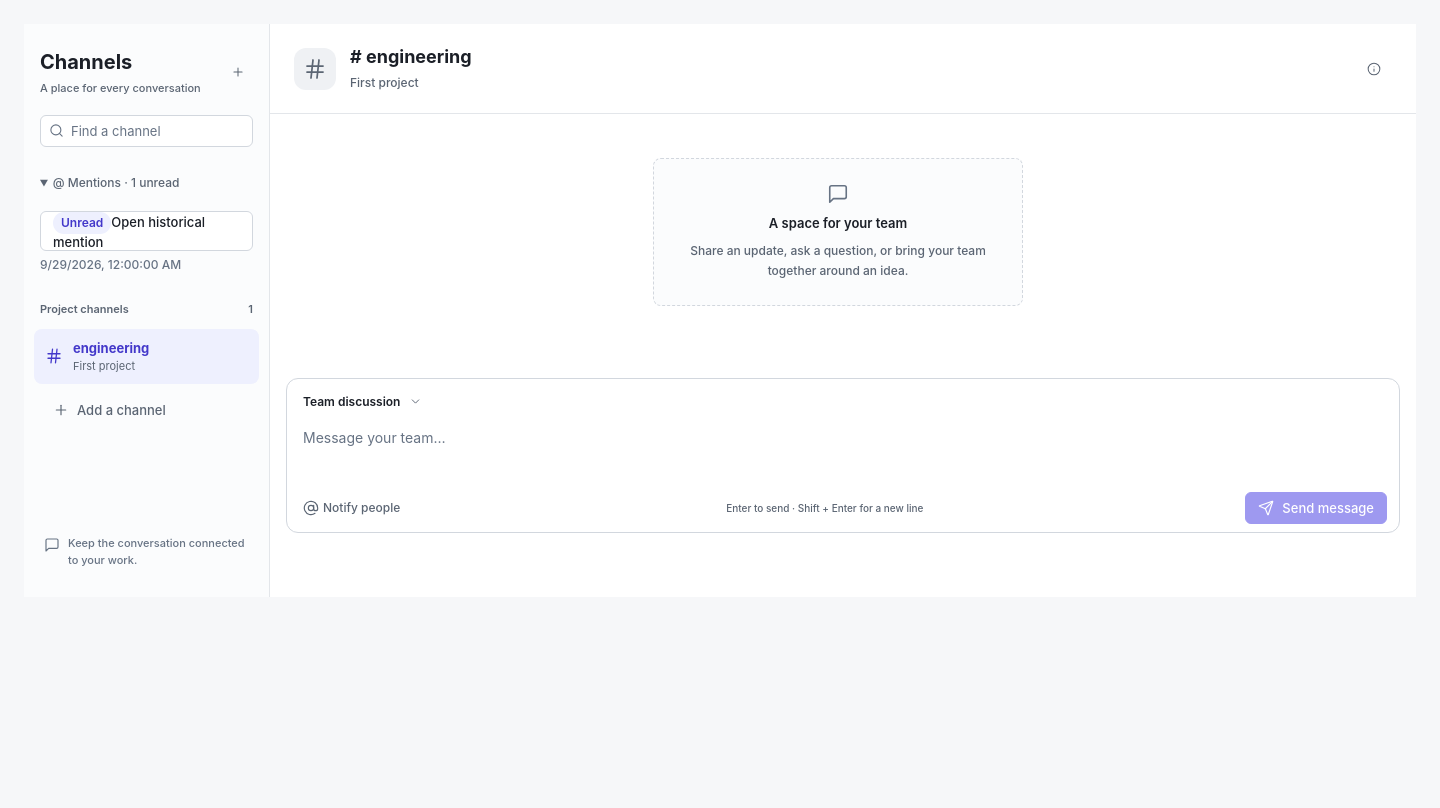
Scenario: notification history › leaves a failed message unread and supports retrying its exact lookup
What coordinates should you click on to do the following:
click the button "Unread Open historical mention"
I would click on:
 (146, 230)
Its box is x1=40 y1=210 x2=253 y2=250.
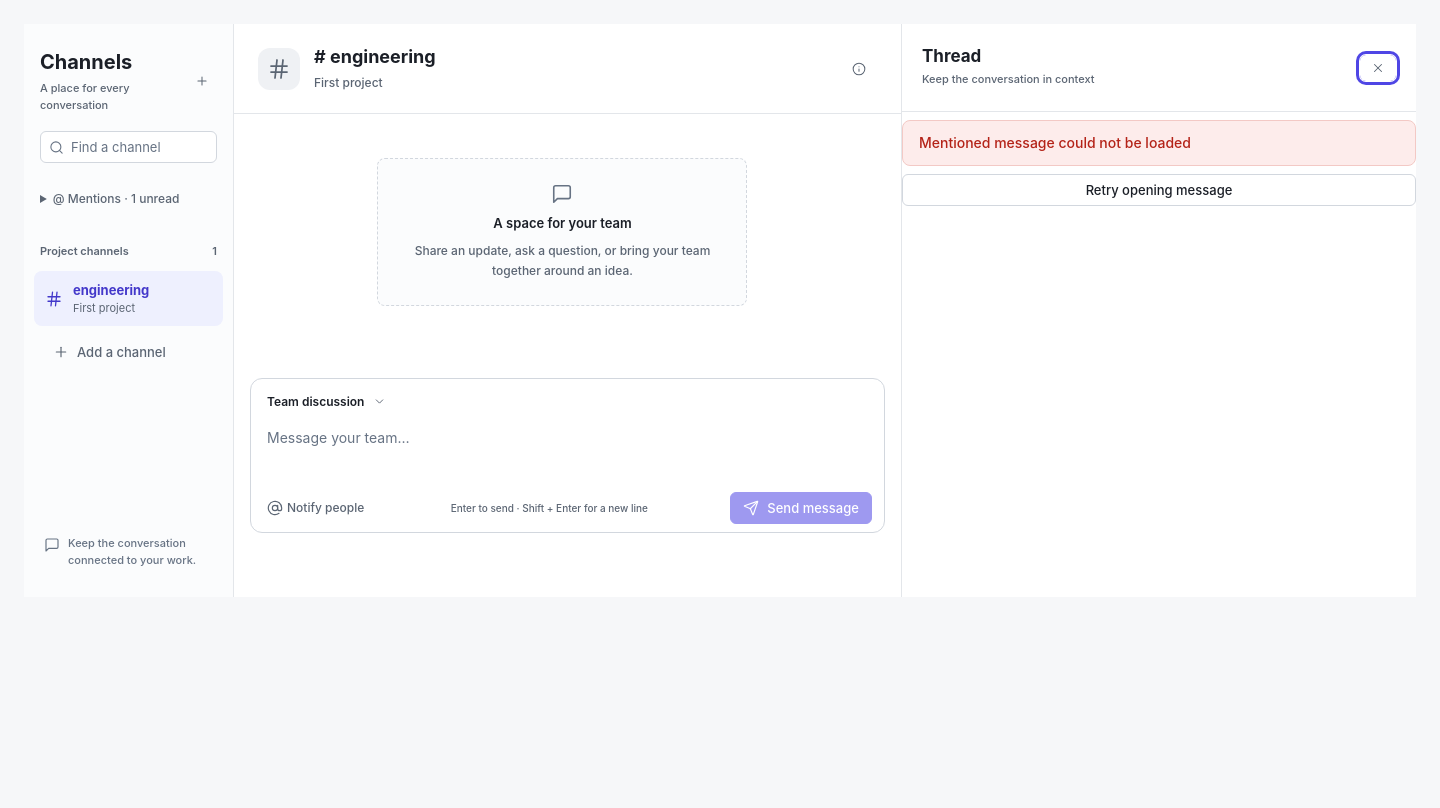
Expected: the text "Exact old reply outside the latest page" is not shown
What coordinates should you click on to do the following:
click the button "Retry opening message"
I would click on:
 (1159, 190)
Its box is x1=902 y1=174 x2=1416 y2=206.
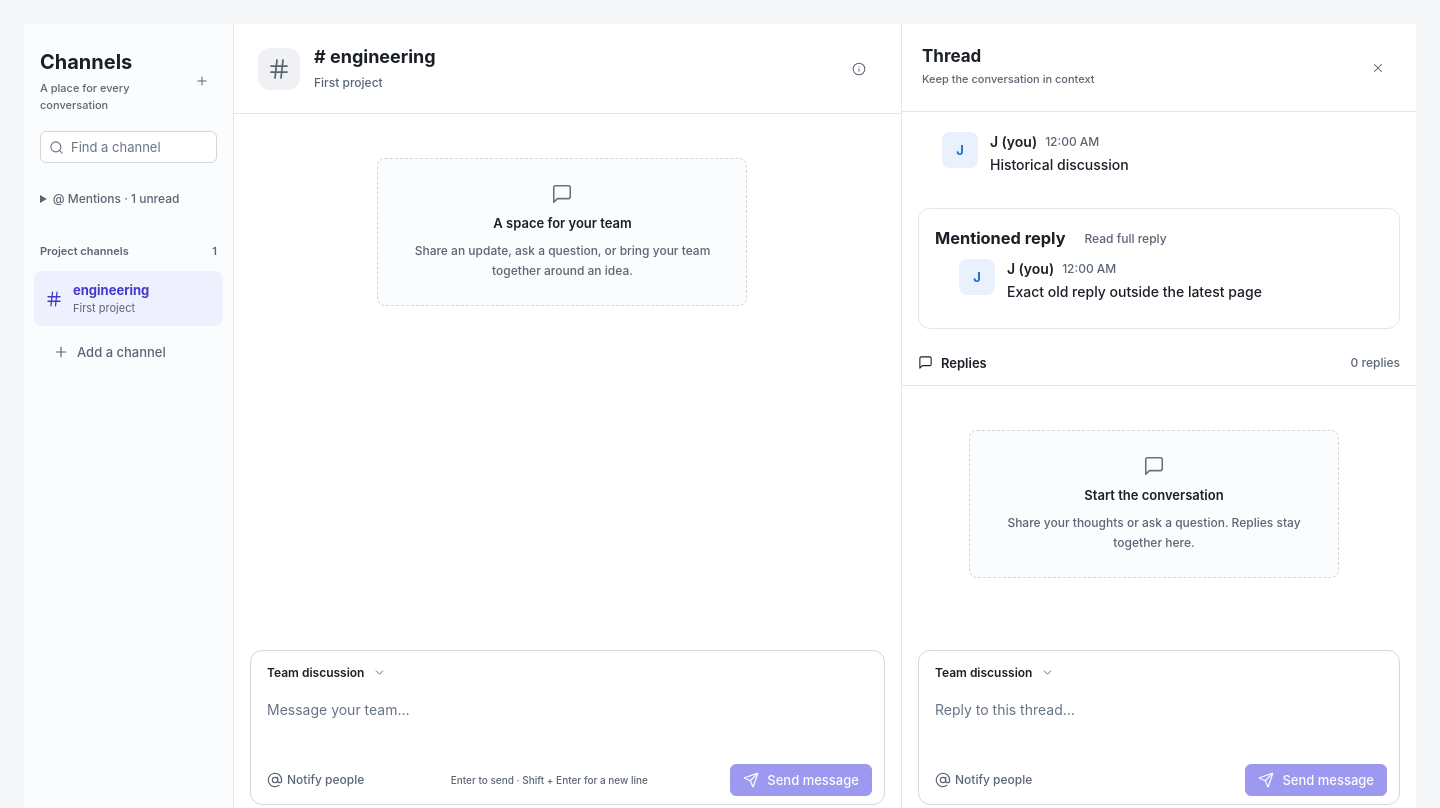
Expected: the text "Exact old reply outside the latest page" is shown, x1=1007 y1=283 x2=1262 y2=300
